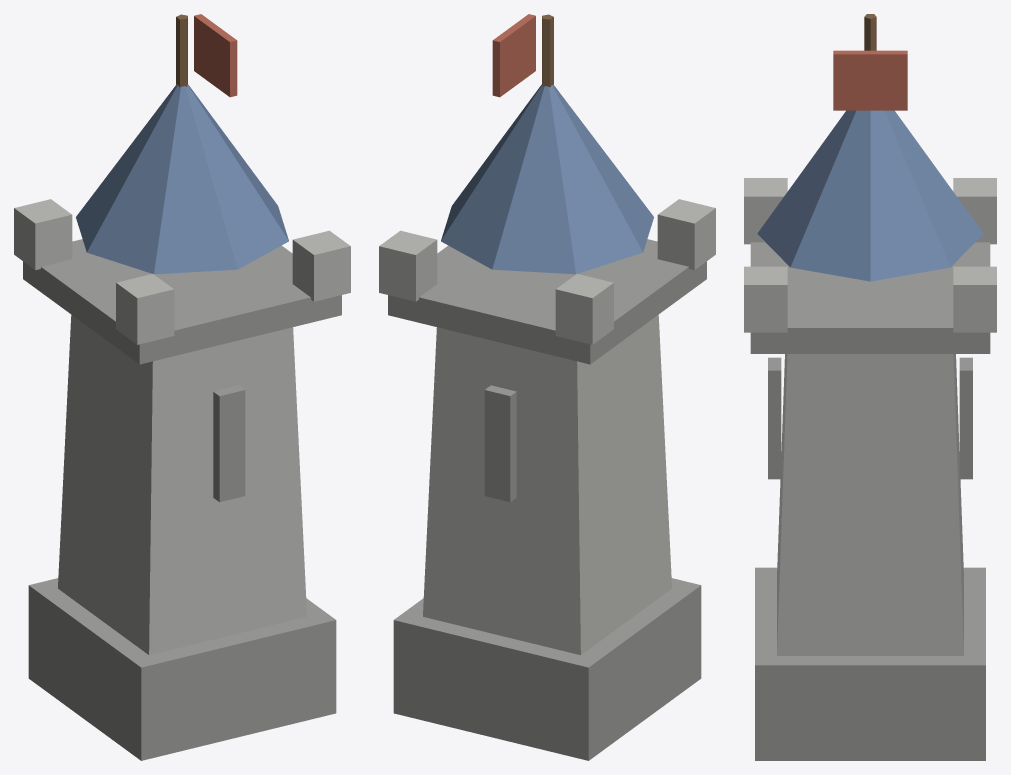
File: Tower.fbx
The picture shows the model from 3 angles, left to right: view 1: azimuth 30°, elevation 25°; view 2: azimuth 150°, elevation 25°; view 3: azimuth 270°, elevation 25°; orthographic projection. The views are drawn at different scales.
Parts seen in each view (by area): view 1: Tower_Shaft, Tower_Base, Tower_Roof, Tower_Battlement, Tower_Slit, Tower_Merlon, Tower_Merlon.002, Tower_Merlon.001, Tower_Banner, Tower_Pole; view 2: Tower_Shaft, Tower_Base, Tower_Roof, Tower_Battlement, Tower_Slit.001, Tower_Merlon.001, Tower_Merlon.003, Tower_Merlon, Tower_Banner, Tower_Pole; view 3: Tower_Shaft, Tower_Base, Tower_Roof, Tower_Battlement, Tower_Banner, Tower_Merlon.002, Tower_Merlon.003, Tower_Merlon, Tower_Merlon.001, Tower_Slit, Tower_Slit.001, Tower_Pole.
Part boxes in pixels (x1=…): Tower_Shaft: x1=58, y1=315, x2=306, y2=655; Tower_Base: x1=28, y1=578, x2=336, y2=760; Tower_Roof: x1=76, y1=84, x2=288, y2=274; Tower_Battlement: x1=23, y1=239, x2=341, y2=364; Tower_Slit: x1=213, y1=385, x2=245, y2=502; Tower_Merlon: x1=116, y1=274, x2=174, y2=344; Tower_Merlon.002: x1=292, y1=230, x2=350, y2=301; Tower_Merlon.001: x1=14, y1=199, x2=72, y2=270; Tower_Banner: x1=194, y1=14, x2=237, y2=97; Tower_Pole: x1=176, y1=14, x2=187, y2=87; Tower_Shaft: x1=423, y1=315, x2=671, y2=655; Tower_Base: x1=393, y1=578, x2=701, y2=760; Tower_Roof: x1=441, y1=84, x2=653, y2=274; Tower_Battlement: x1=388, y1=239, x2=706, y2=364; Tower_Slit.001: x1=484, y1=385, x2=516, y2=502; Tower_Merlon.001: x1=555, y1=274, x2=613, y2=344; Tower_Merlon.003: x1=379, y1=230, x2=437, y2=301; Tower_Merlon: x1=657, y1=199, x2=715, y2=270; Tower_Banner: x1=492, y1=14, x2=535, y2=97; Tower_Pole: x1=542, y1=14, x2=553, y2=87; Tower_Shaft: x1=777, y1=354, x2=963, y2=655; Tower_Base: x1=755, y1=567, x2=985, y2=760; Tower_Roof: x1=757, y1=110, x2=983, y2=281; Tower_Battlement: x1=750, y1=242, x2=990, y2=353; Tower_Banner: x1=833, y1=50, x2=907, y2=110; Tower_Merlon.002: x1=744, y1=266, x2=787, y2=332; Tower_Merlon.003: x1=953, y1=266, x2=996, y2=332; Tower_Merlon: x1=744, y1=178, x2=787, y2=244; Tower_Merlon.001: x1=953, y1=178, x2=996, y2=244; Tower_Slit: x1=768, y1=357, x2=781, y2=479; Tower_Slit.001: x1=959, y1=357, x2=972, y2=479; Tower_Pole: x1=864, y1=14, x2=876, y2=50.
Size of the model in its own units: 102 by 310 by 102.
